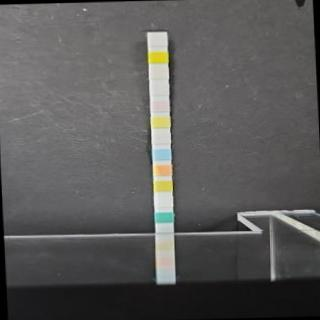mark: (151, 114, 169, 128), (148, 50, 166, 63), (154, 195, 172, 207), (150, 84, 168, 96), (150, 67, 168, 79), (148, 34, 166, 46), (153, 164, 170, 176), (153, 148, 170, 160), (151, 100, 168, 112), (154, 180, 170, 192), (152, 132, 168, 144), (155, 212, 173, 222)
